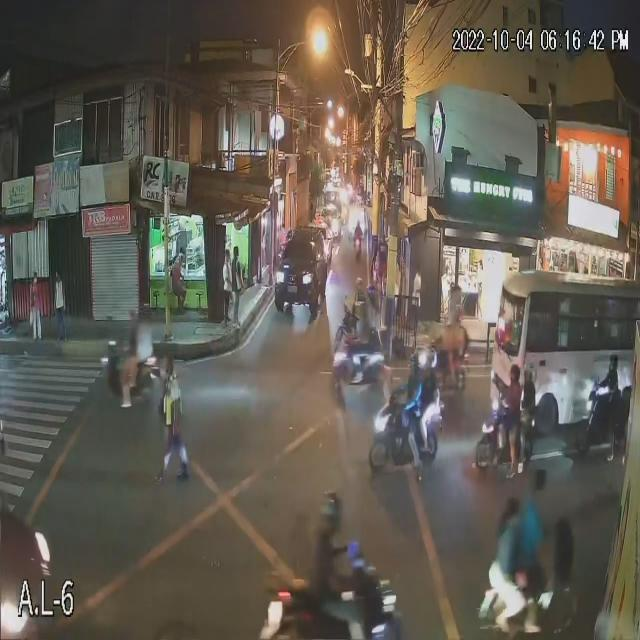helmet: (316, 497, 343, 519), (507, 369, 521, 379)
motorcycle: (266, 582, 416, 640), (367, 402, 456, 466), (474, 588, 580, 640), (94, 343, 175, 404), (481, 407, 538, 469), (578, 393, 631, 448), (327, 347, 390, 378), (353, 237, 364, 259)
rider: (498, 530, 519, 607), (317, 536, 338, 609), (526, 509, 544, 582), (503, 385, 521, 442), (126, 324, 141, 388), (424, 374, 438, 425), (407, 379, 420, 426), (524, 385, 533, 435), (607, 373, 618, 410)
